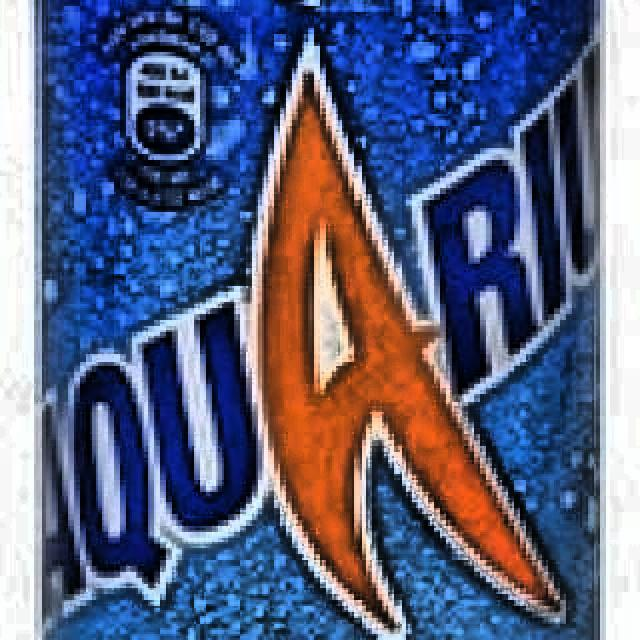metal: (22, 0, 610, 640)
